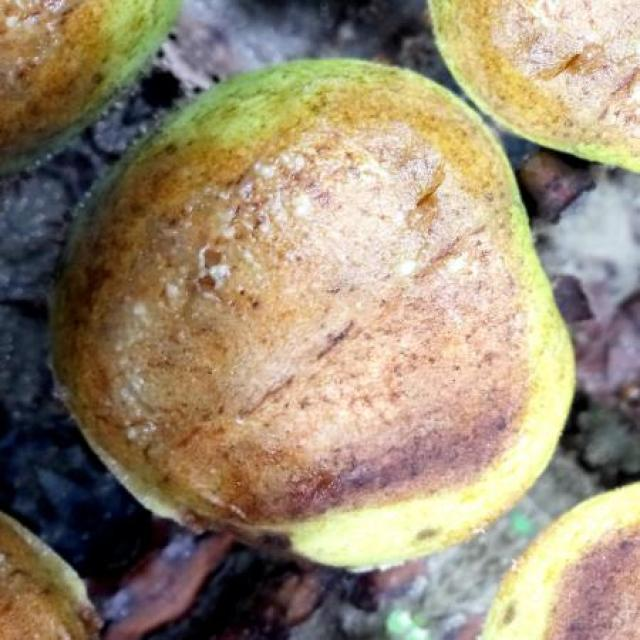Styler and Root: (54, 76, 542, 524), (492, 0, 640, 137), (545, 530, 640, 639)
